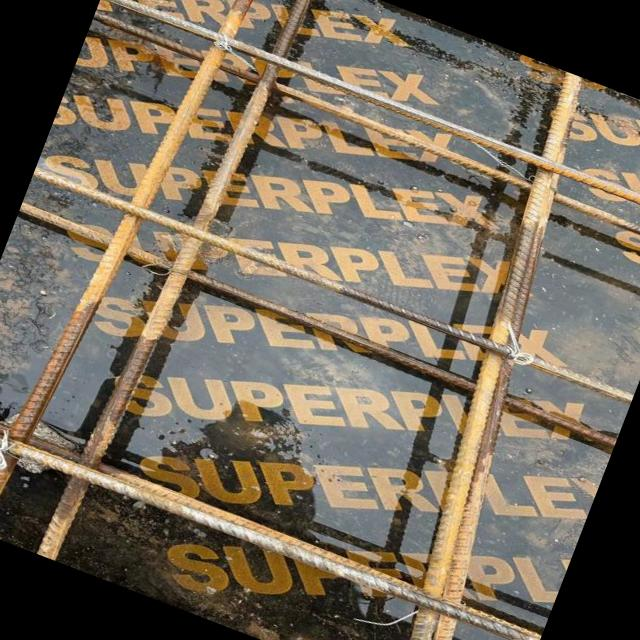ribbed bar: (328, 68, 640, 640), (34, 0, 322, 574), (0, 0, 274, 556), (16, 202, 619, 448), (32, 165, 634, 406), (90, 10, 640, 254), (0, 400, 543, 640), (100, 0, 640, 229)
